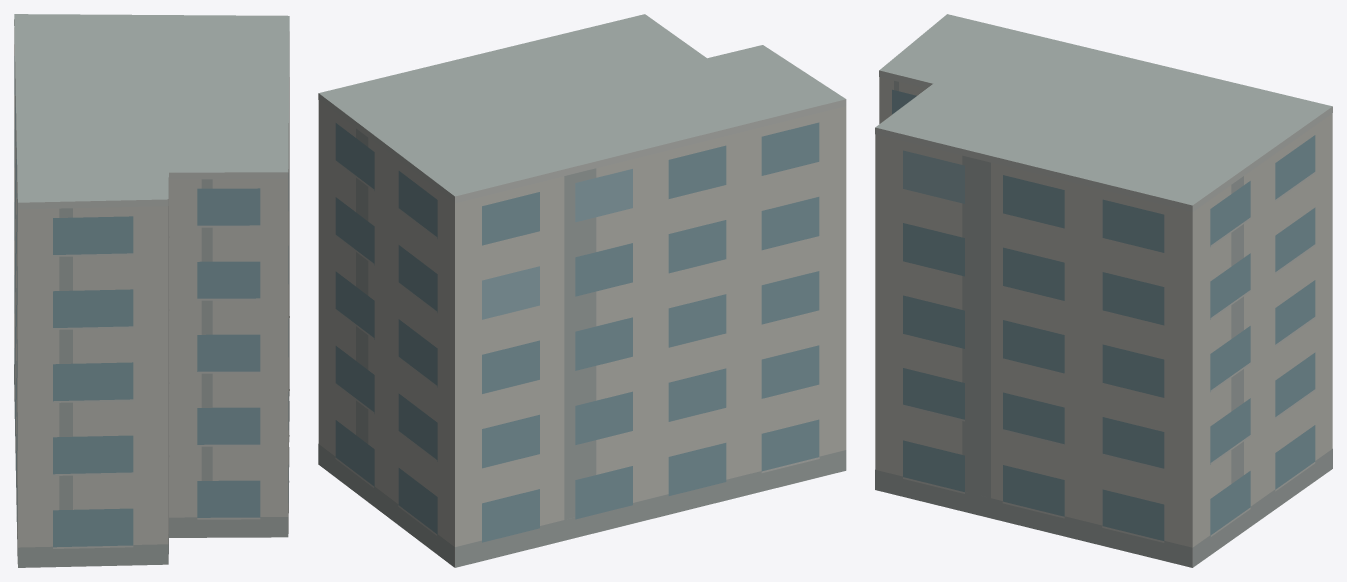
Rendered from survey-upis-32810788.glb.
3 renders of one model, left to right at view 1: azimuth 30°, elevation 25°; view 2: azimuth 150°, elevation 25°; view 3: azimuth 270°, elevation 25°, orthographic. The views are drawn at different scales.
Parts seen in each view (by area): view 1: survey-upis-32810788.tmp; view 2: survey-upis-32810788.tmp; view 3: survey-upis-32810788.tmp.
Boxes of the visible parts, box(x1,y1,x2,y2) form: survey-upis-32810788.tmp: box(14, 14, 289, 567); survey-upis-32810788.tmp: box(318, 14, 846, 567); survey-upis-32810788.tmp: box(875, 14, 1332, 567).
Size of the model in its own units: 15.02 by 13.25 by 15.17.
